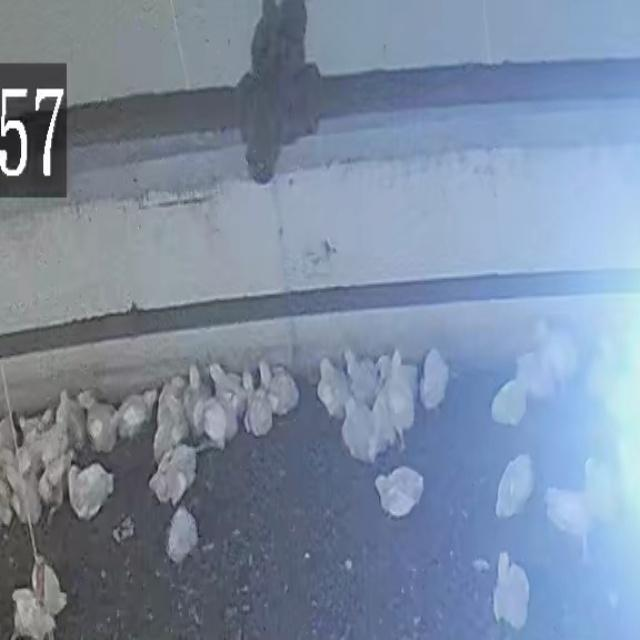chicken: (148, 443, 200, 509), (543, 484, 591, 548), (492, 551, 530, 631), (584, 338, 623, 414), (66, 460, 115, 520), (494, 452, 534, 520), (10, 586, 60, 640), (340, 396, 379, 465), (375, 379, 413, 447), (540, 324, 580, 387), (370, 471, 425, 516), (583, 456, 616, 527), (316, 355, 352, 420), (31, 558, 68, 619), (39, 450, 77, 508), (418, 347, 451, 413), (114, 391, 154, 445), (165, 504, 200, 565), (208, 367, 248, 419), (83, 397, 119, 454), (344, 348, 378, 408), (195, 396, 232, 451), (187, 365, 216, 432), (6, 469, 42, 522), (266, 362, 300, 418), (244, 379, 275, 439), (512, 350, 546, 404), (494, 374, 528, 424), (155, 406, 187, 459), (59, 389, 85, 442), (155, 376, 181, 402)
